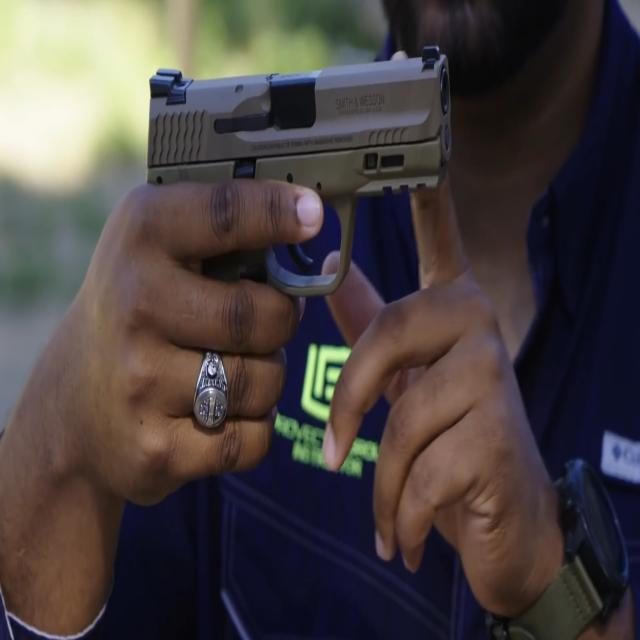handgun: (115, 11, 458, 414)
